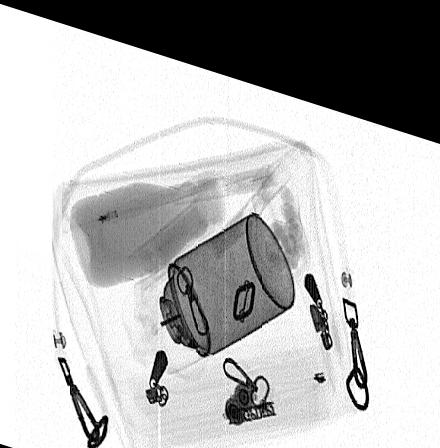Sprayer: (132, 198, 294, 364)
